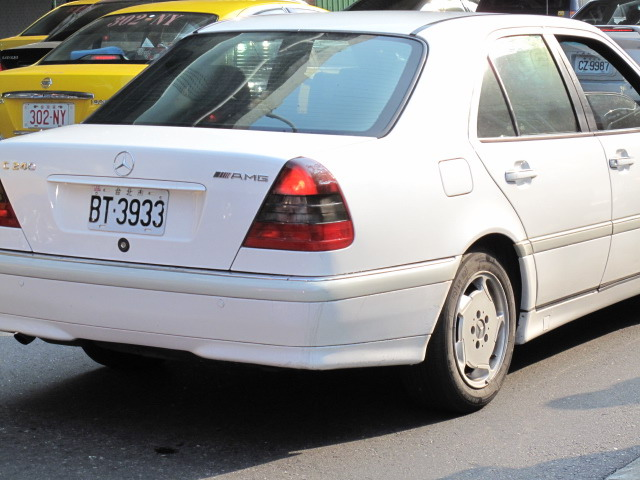plate: (88, 183, 168, 239), (25, 101, 69, 132), (575, 53, 615, 78)
